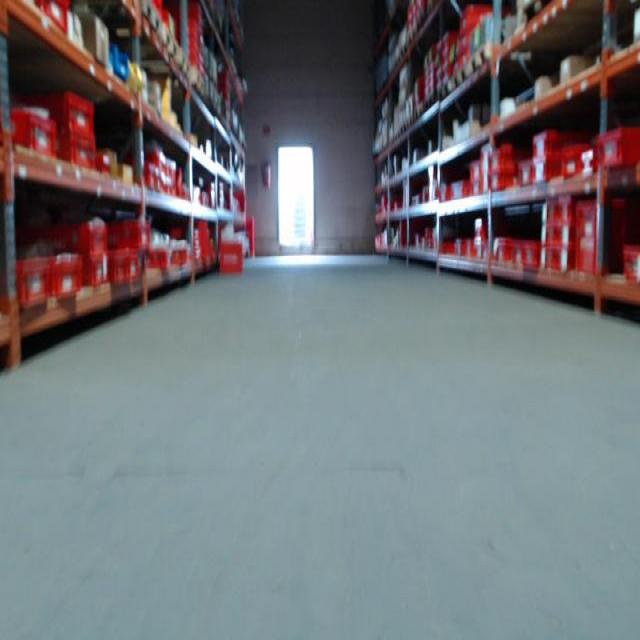pallet: (516, 2, 556, 32), (138, 0, 166, 41), (469, 42, 492, 75), (162, 26, 178, 63), (452, 64, 469, 92), (177, 50, 191, 83), (439, 81, 452, 103), (407, 27, 416, 48), (415, 108, 423, 122), (406, 116, 413, 129)
small_load_carrier: (33, 88, 100, 142), (5, 103, 59, 164), (15, 246, 53, 313), (48, 132, 96, 180), (594, 120, 640, 170), (43, 220, 114, 248), (53, 251, 88, 296), (107, 220, 152, 255), (573, 193, 629, 220), (573, 248, 619, 280), (529, 127, 578, 157), (80, 251, 112, 295), (487, 141, 524, 172), (218, 241, 250, 275), (557, 144, 585, 180), (573, 220, 631, 237), (107, 248, 129, 292), (618, 239, 638, 285), (487, 173, 522, 194), (552, 248, 578, 276), (516, 159, 539, 188), (123, 254, 144, 285), (533, 160, 559, 181), (150, 250, 168, 280), (522, 242, 542, 268), (492, 237, 513, 261), (557, 223, 578, 246), (557, 199, 579, 218), (509, 239, 523, 266)
